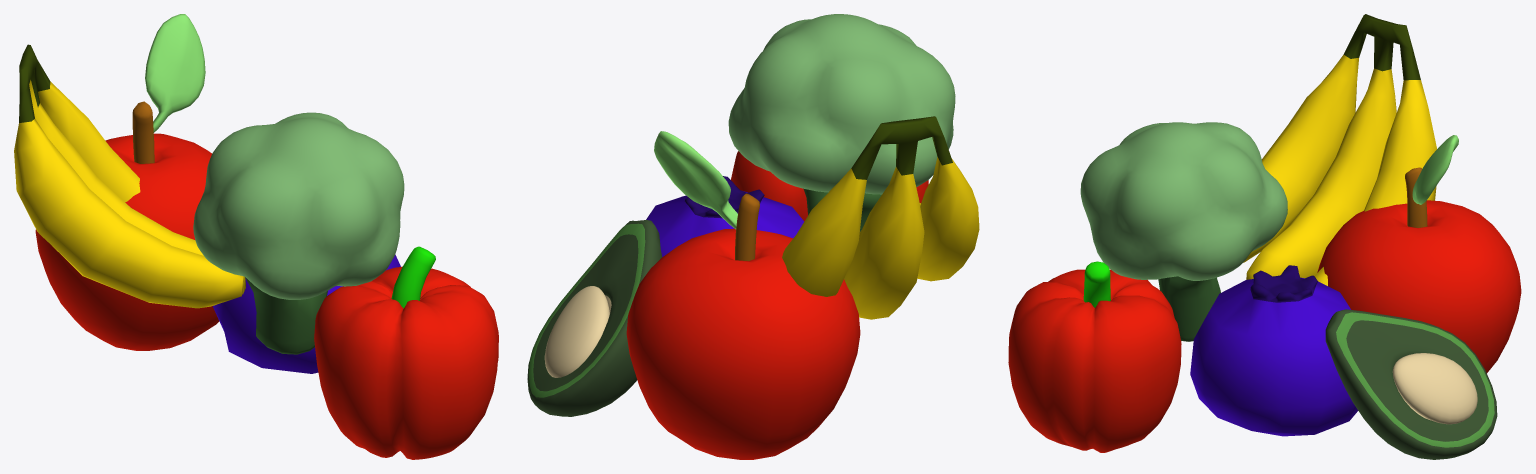
The model's file is Fruit_vegetable.fbx.
3 views of the same model, side by side, from view 1: azimuth 30°, elevation 25°; view 2: azimuth 150°, elevation 25°; view 3: azimuth 270°, elevation 25° (orthographic). The views are drawn at different scales.
Visible parts, largest first — view 1: Broccoli, Pepper, Banana, Apple, Blueberries; view 2: Apple, Broccoli, Banana, Avacado, Blueberries, Pepper; view 3: Broccoli, Pepper, Banana, Apple, Blueberries, Avacado.
Boxes of the visible parts, bbox=[...] form: Broccoli: bbox=[193, 112, 404, 354]; Pepper: bbox=[314, 246, 498, 459]; Banana: bbox=[14, 44, 245, 308]; Apple: bbox=[35, 14, 219, 350]; Blueberries: bbox=[212, 254, 400, 373]; Apple: bbox=[626, 131, 860, 459]; Broccoli: bbox=[728, 14, 955, 231]; Banana: bbox=[782, 116, 979, 319]; Avacado: bbox=[527, 220, 662, 416]; Blueberries: bbox=[646, 176, 804, 256]; Pepper: bbox=[731, 151, 928, 221]; Broccoli: bbox=[1080, 122, 1287, 341]; Pepper: bbox=[1008, 261, 1181, 452]; Banana: bbox=[1243, 14, 1436, 285]; Apple: bbox=[1317, 135, 1521, 373]; Blueberries: bbox=[1190, 265, 1358, 436]; Avacado: bbox=[1325, 309, 1497, 459].
Bounding box in the file's own units: 453 × 388 × 574.
